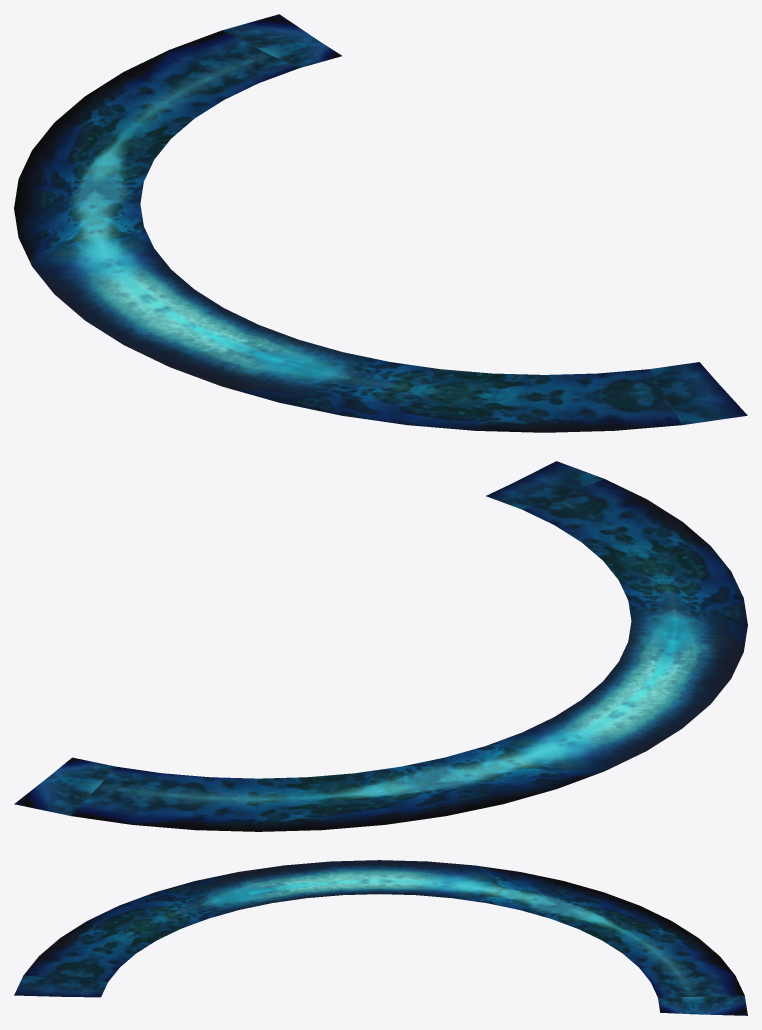
File: Atoll-test.fbx
The picture shows the model from 3 angles, top to bottom: view 1: azimuth 30°, elevation 25°; view 2: azimuth 150°, elevation 25°; view 3: azimuth 270°, elevation 25°; orthographic projection. The views are drawn at different scales.
Visible parts, largest first — view 1: Plane; view 2: Plane; view 3: Plane.
Part boxes in pixels (x1,y1,x2,y2): Plane: (14, 14, 747, 432); Plane: (14, 461, 747, 831); Plane: (14, 860, 747, 1015).
Bounding box in the file's own units: 647 × 5.93 × 1288.
1 material, 1 textured.
